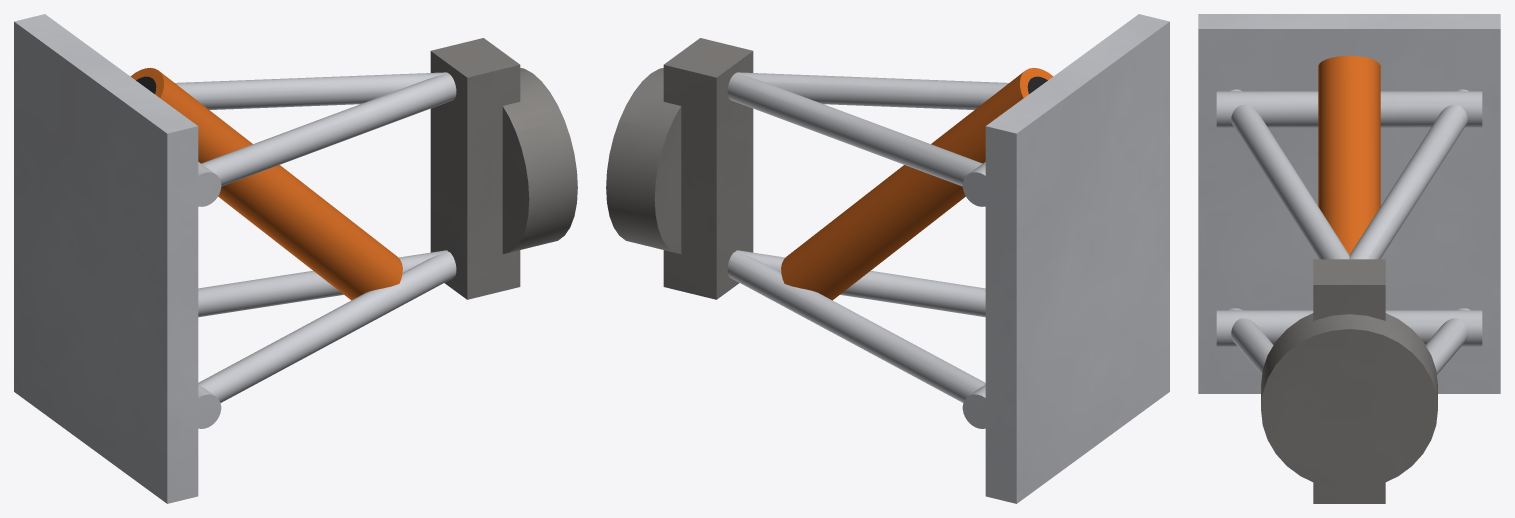
The model's file is rover17_suspension_arm_m.glb.
The picture shows the model from 3 angles, left to right: view 1: azimuth 30°, elevation 25°; view 2: azimuth 150°, elevation 25°; view 3: azimuth 270°, elevation 25°; orthographic projection.
Parts seen in each view (by area): view 1: mount_plate, arm_upright, arm_upper, spring, arm_lower; view 2: mount_plate, arm_upright, arm_upper, spring, arm_lower; view 3: mount_plate, arm_upright, arm_upper, spring, arm_lower.
Part boxes in pixels (box(x1,y1,x2,y2)): mount_plate: box(14, 14, 198, 503); arm_upright: box(430, 38, 577, 299); arm_upper: box(175, 72, 456, 206); spring: box(130, 67, 402, 300); arm_lower: box(198, 250, 456, 428); mount_plate: box(985, 14, 1169, 503); arm_upright: box(606, 38, 753, 299); arm_upper: box(727, 72, 1008, 206); spring: box(781, 67, 1053, 300); arm_lower: box(727, 250, 985, 428); mount_plate: box(1198, 14, 1500, 393); arm_upright: box(1261, 259, 1437, 503); arm_upper: box(1216, 89, 1482, 259); spring: box(1318, 55, 1380, 254); arm_lower: box(1216, 308, 1482, 374).
Size of the model in its own units: 0.5 by 0.4 by 0.3.
Materials: 4 (2 with a texture image).
